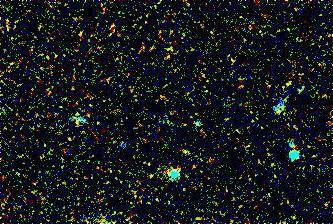star: (170, 138, 200, 168)
